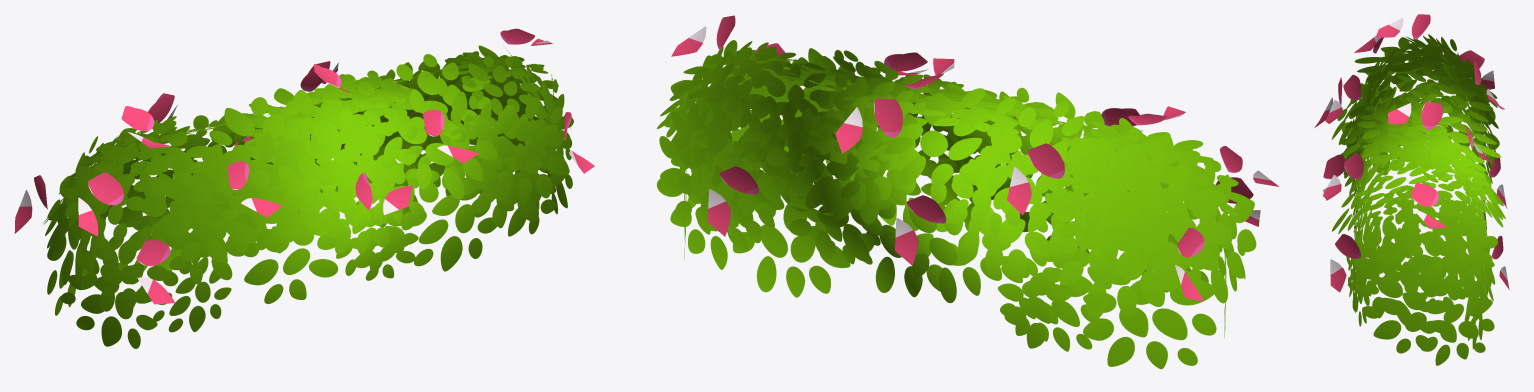
File: Bush_Small_Flowers.gltf
3 views of the same model, side by side, from view 1: azimuth 30°, elevation 25°; view 2: azimuth 150°, elevation 25°; view 3: azimuth 270°, elevation 25° (orthographic). The views are drawn at different scales.
Parts seen in each view (by area): view 1: Bush_Small_Flowers; view 2: Bush_Small_Flowers; view 3: Bush_Small_Flowers.
Part boxes in pixels (x1,y1,x2,y2): Bush_Small_Flowers: (14, 28, 594, 348); Bush_Small_Flowers: (657, 15, 1279, 368); Bush_Small_Flowers: (1314, 14, 1509, 365).
Bounding box in the file's own units: 1.93 × 0.8168 × 0.7617.
Materials: 2 (2 with a texture image).
